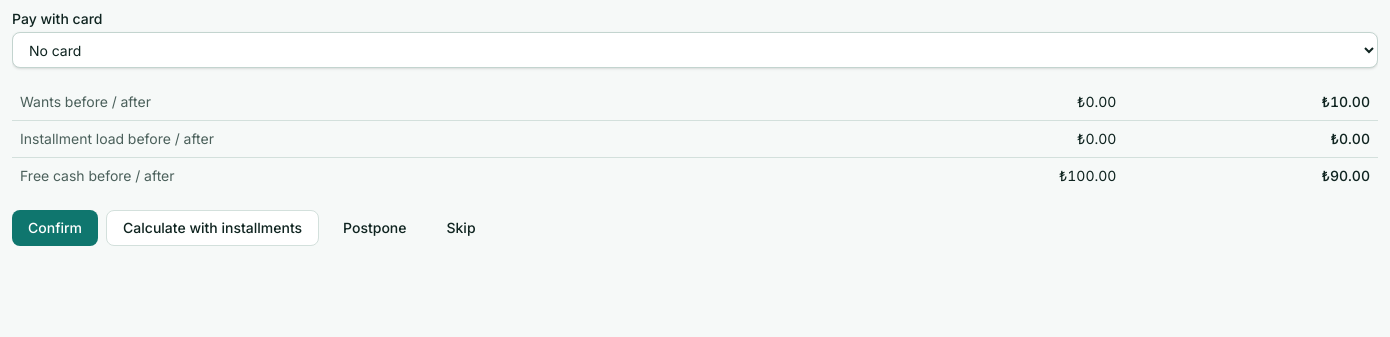
Test: QueuePreview skip, postpone, first fitting month and card choice › shows the timing tip only for the chosen card and clears it for no card
The width and height of the screenshot is (1390, 337).
Select "Visa" in the dropdown labelled "Pay with card": coordinates (695, 50) left=12, top=32, right=1378, bottom=68
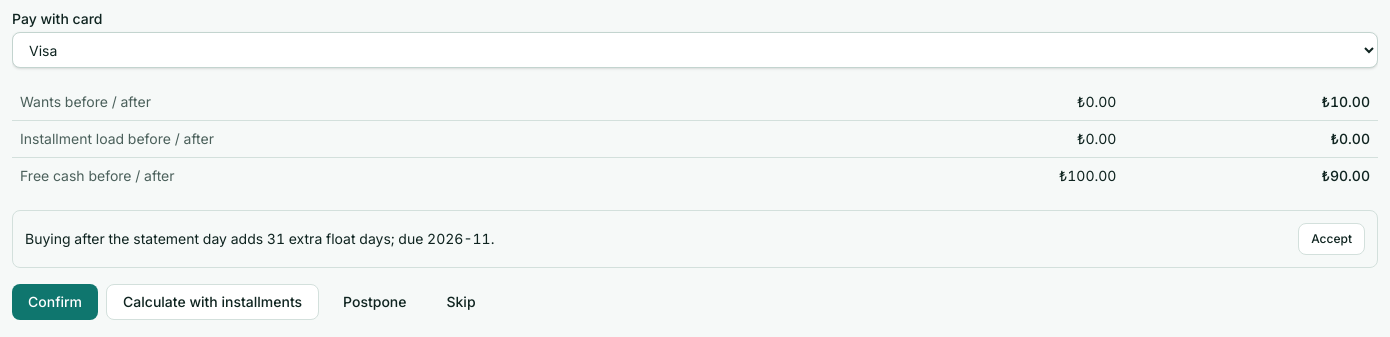
Check: the element with test id "card-timing-tip" shows "31 extra float days", box left=25, top=230, right=494, bottom=247
Select "No card" in the dropdown labelled "Pay with card": coordinates (695, 50) left=12, top=32, right=1378, bottom=68
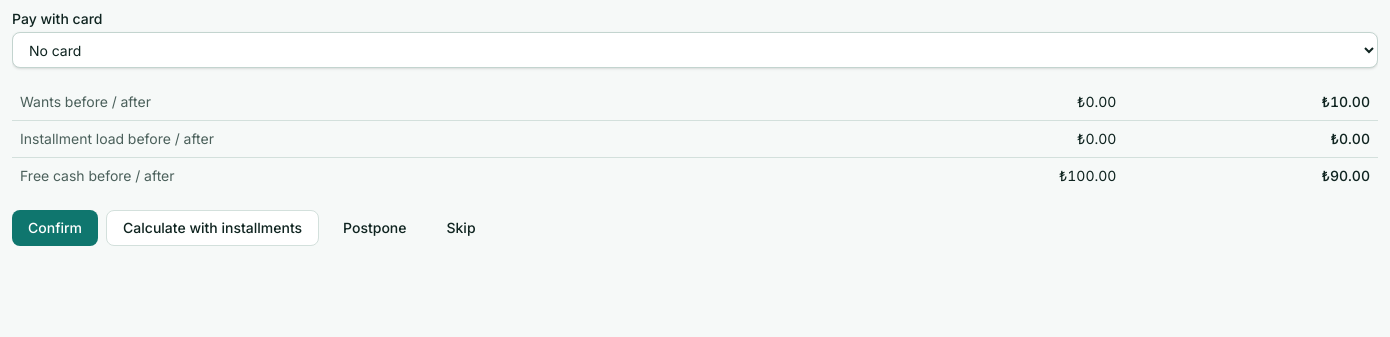
Check: the element with test id "card-timing-tip" is gone
